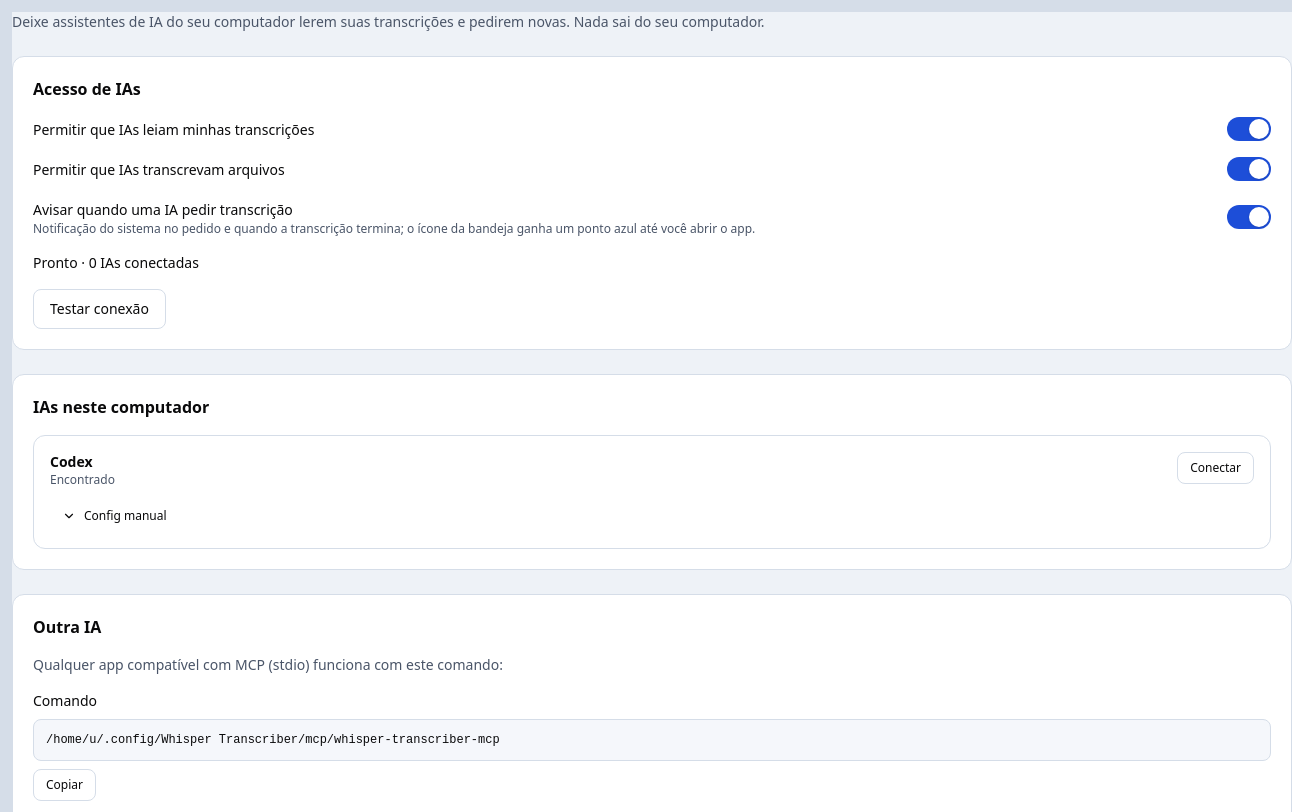
Scenario: AiSection — cartões › erro de uma ação aparece no cartão com a config manual aberta
This screenshot has width=1292, height=812.
expect the heading "Codex" is shown: met, box [50,452,92,471]
Click the button "Conectar". click: (1216, 468)
box: [1177,452,1254,484]
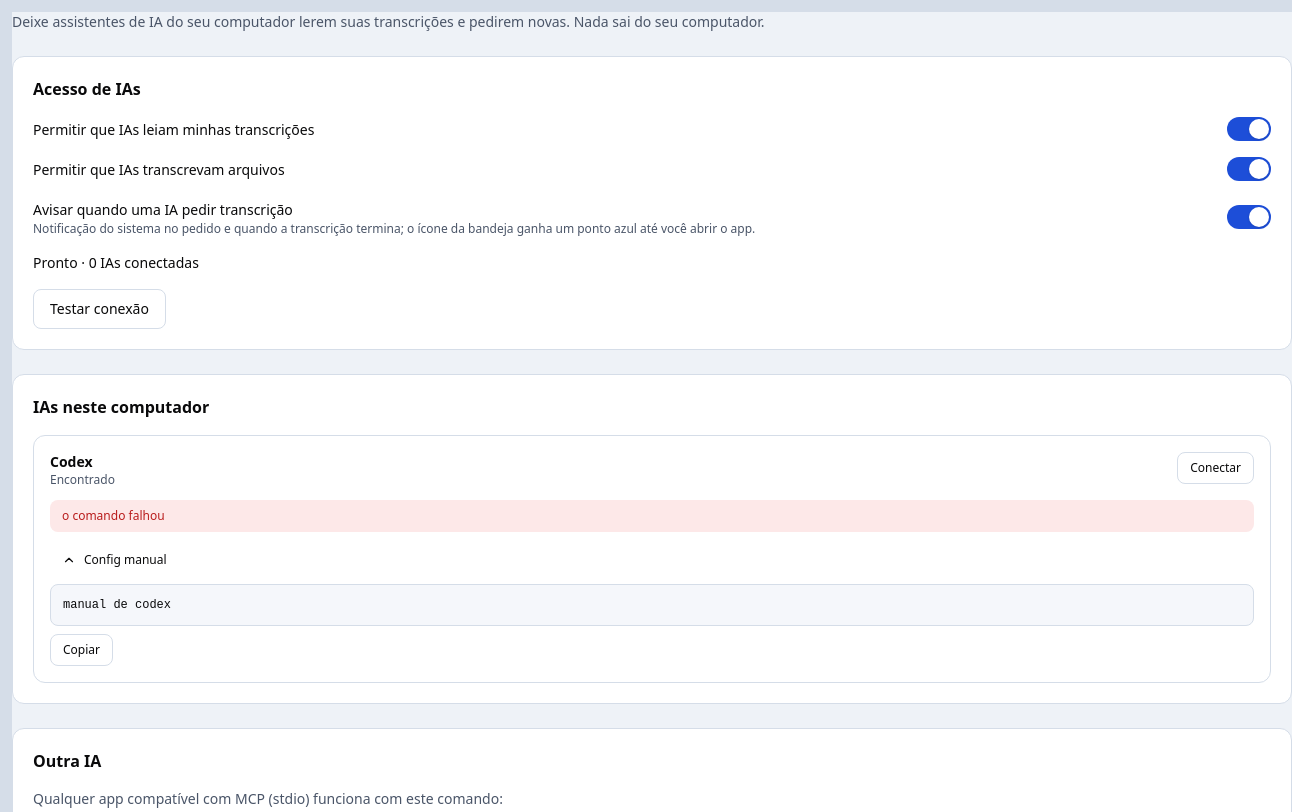
expect the text "o comando falhou" is shown: met, box [50,500,1254,532]
expect the text "manual de codex" is shown: met, box [50,584,1254,626]
